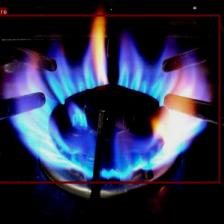fire: (0, 14, 220, 183)
